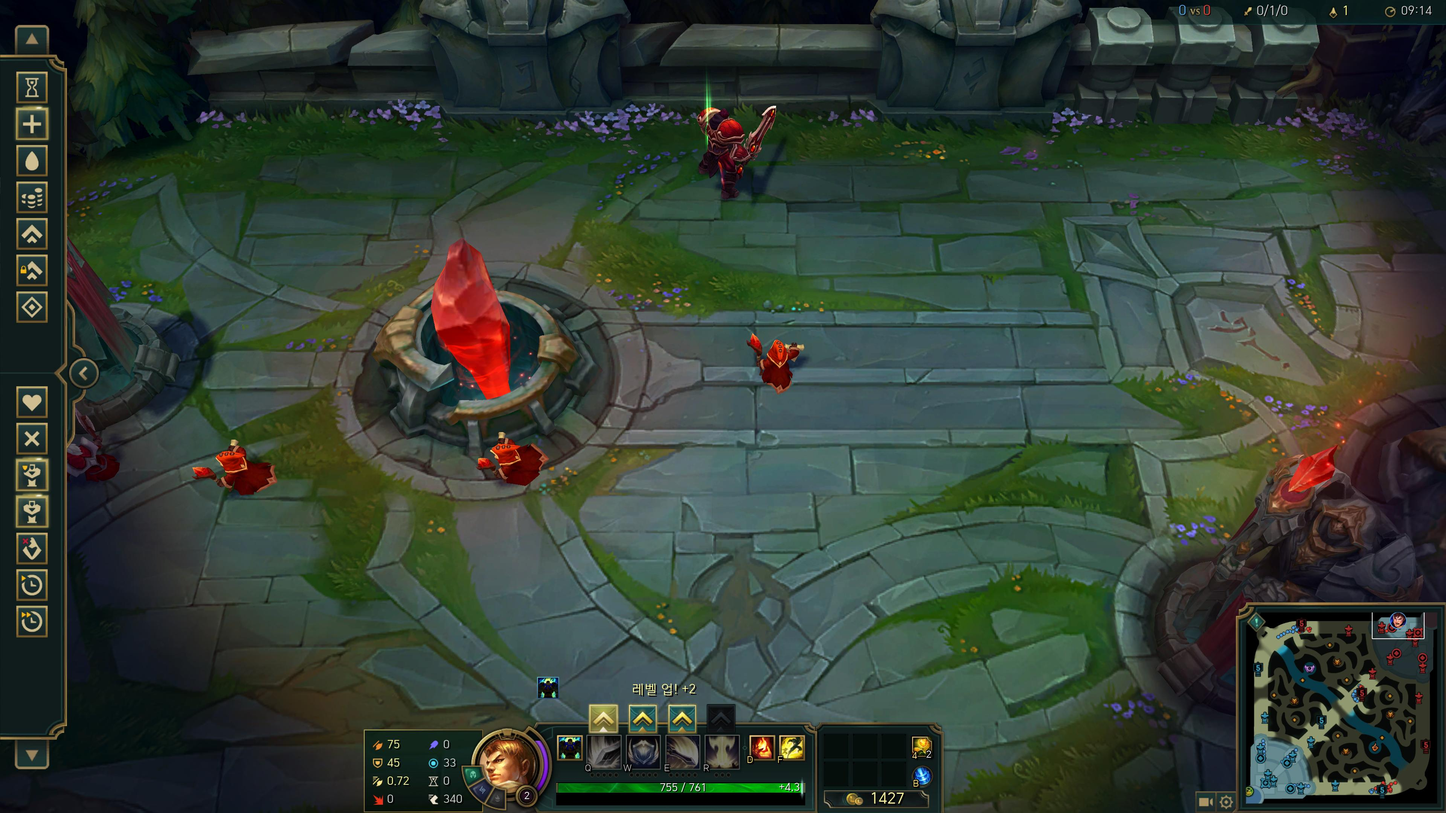enemy-caster-minion: (477, 431, 547, 485), (748, 332, 805, 392), (215, 438, 275, 495), (192, 466, 215, 478)
